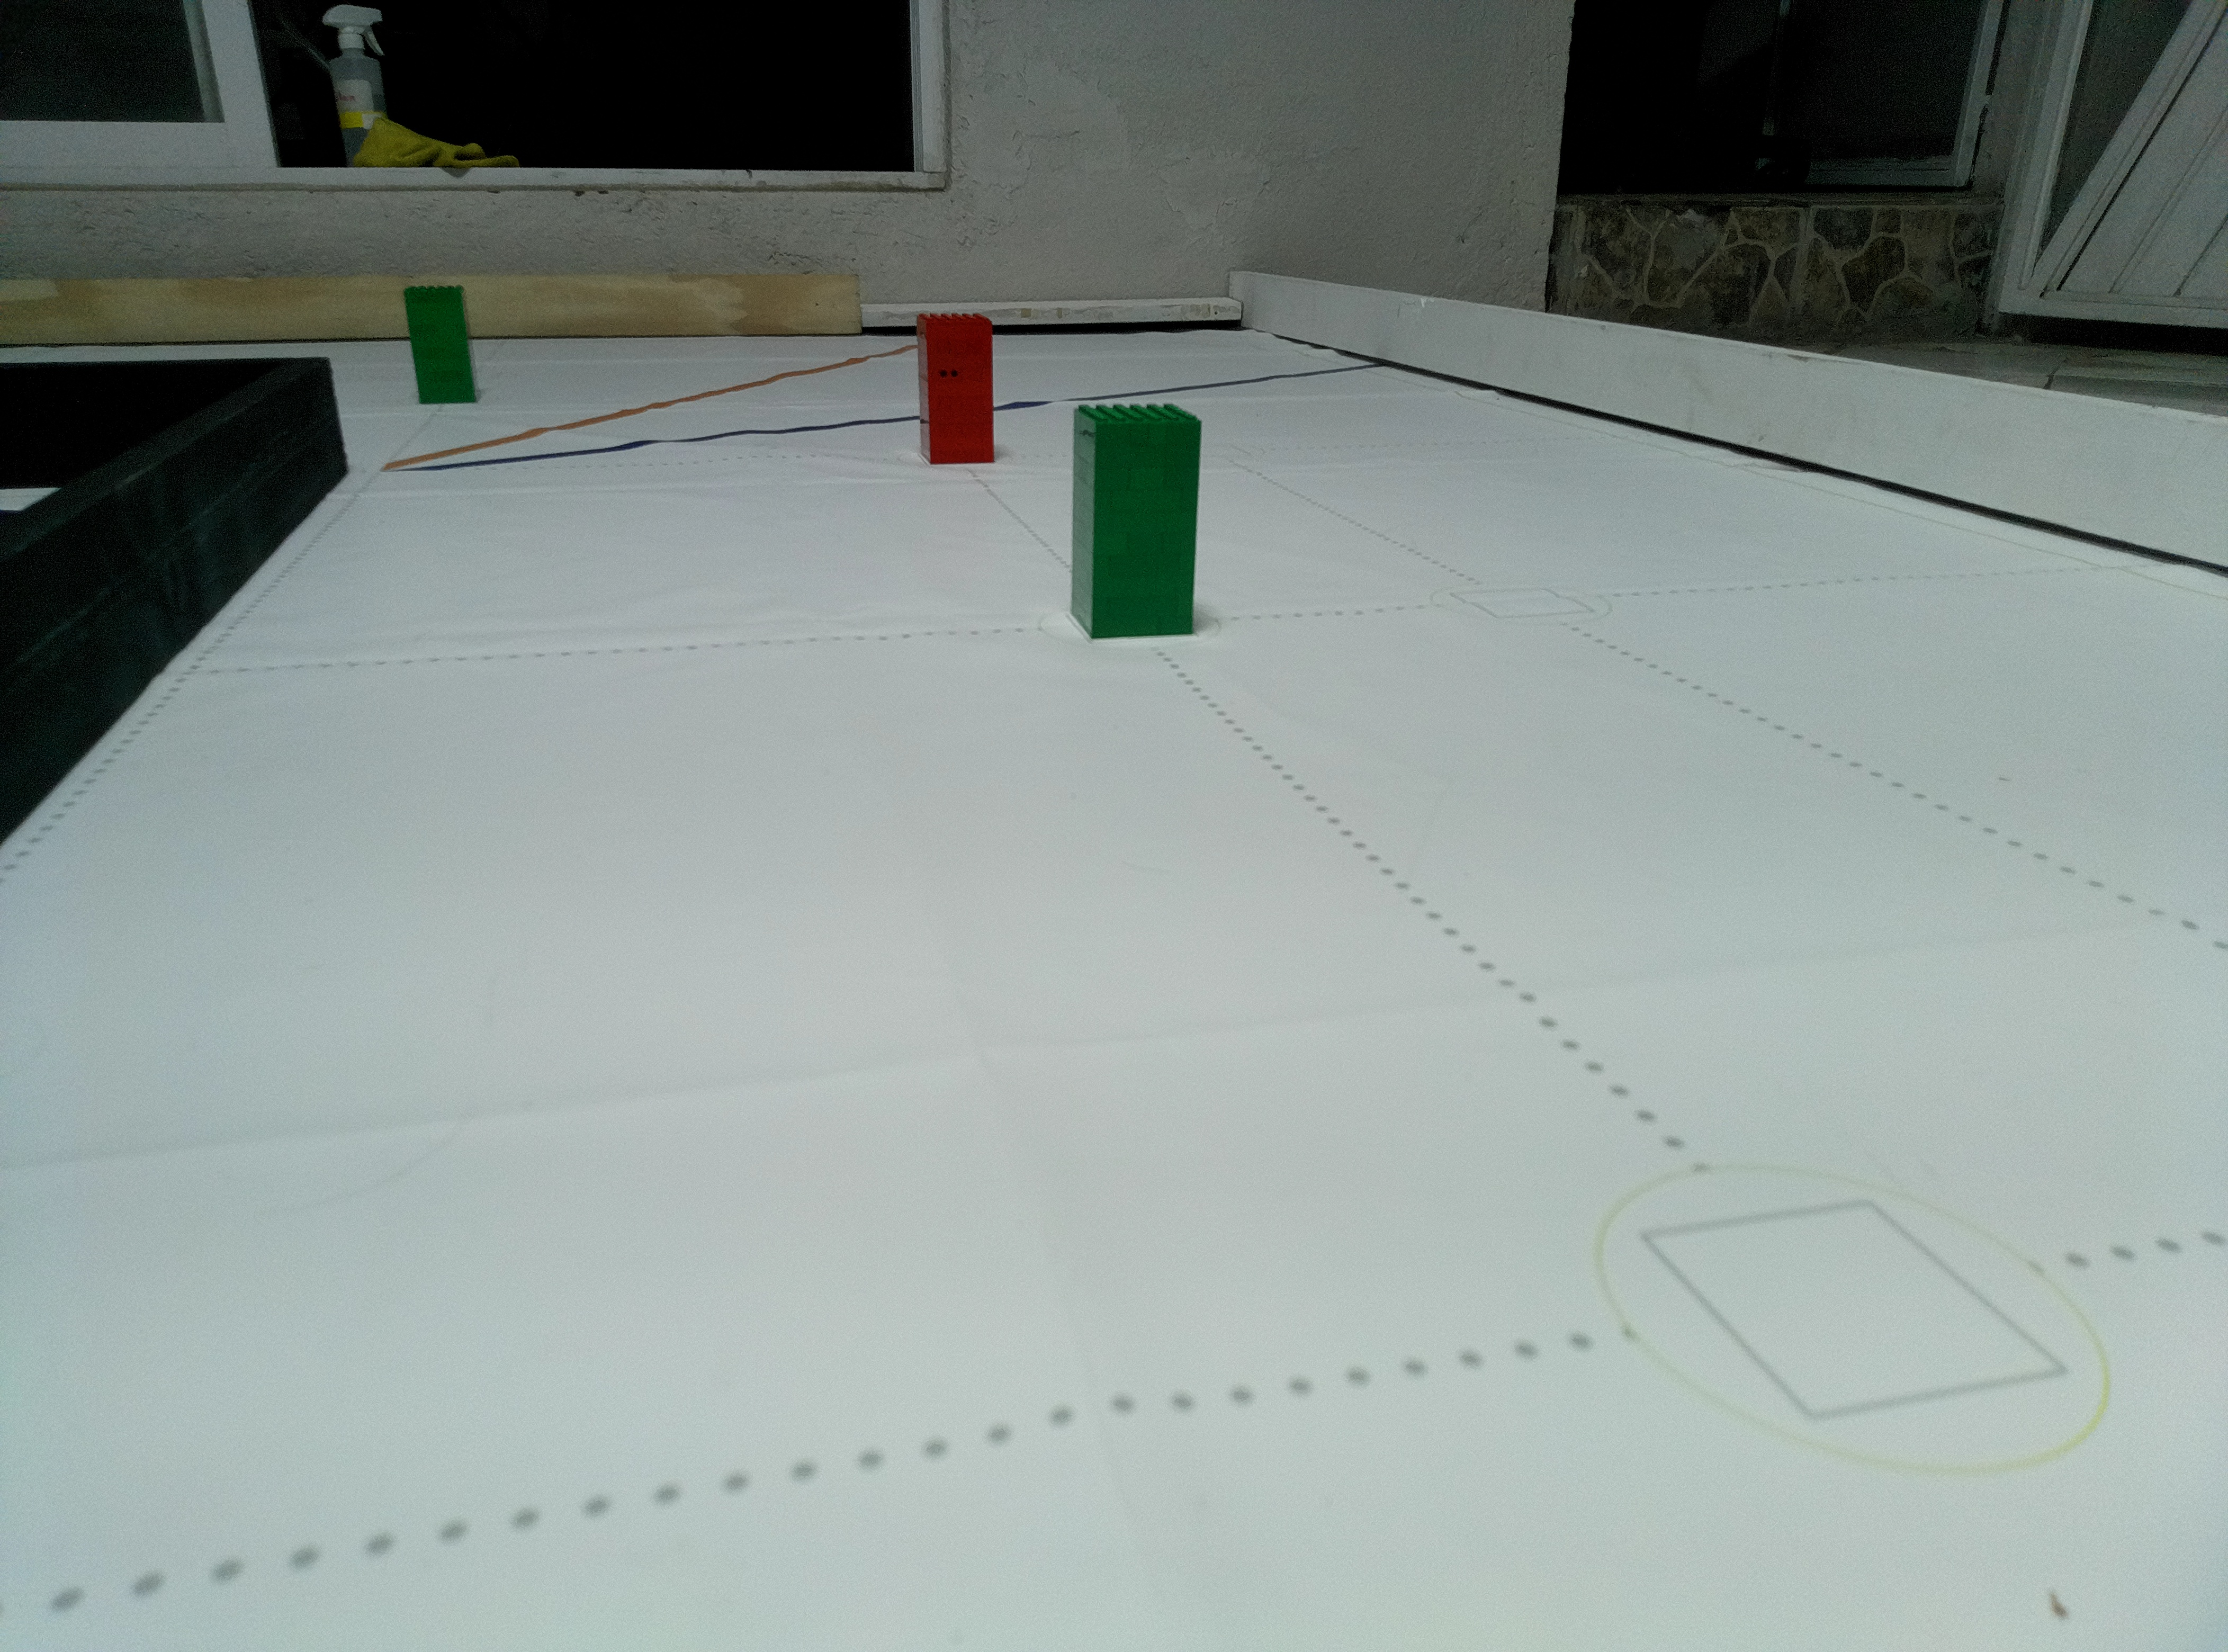greenbox: (1069, 396, 1206, 642), (403, 283, 484, 406)
redbox: (914, 312, 996, 467)
